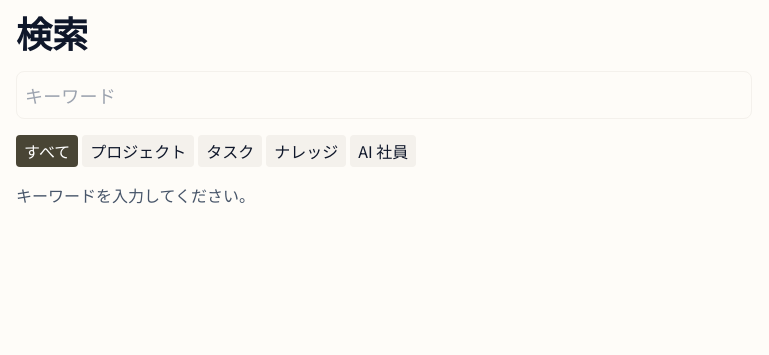
Test: T-UC-40 SearchContainer › searches after debounce and renders hits with kind labels
Type "atelier" into the search field with placeholder "キーワード" at (384, 95), box top-left (16, 71), bottom-right (752, 119)
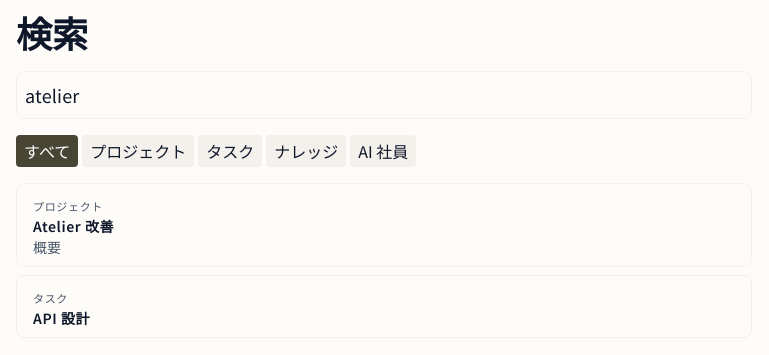
Expected: the button "プロジェクト" is shown, top-left (82, 135), bottom-right (194, 167)
Expected: the text "Atelier 改善" is shown, top-left (33, 216), bottom-right (114, 236)
Expected: the text "API 設計" is shown, top-left (33, 308), bottom-right (90, 328)
